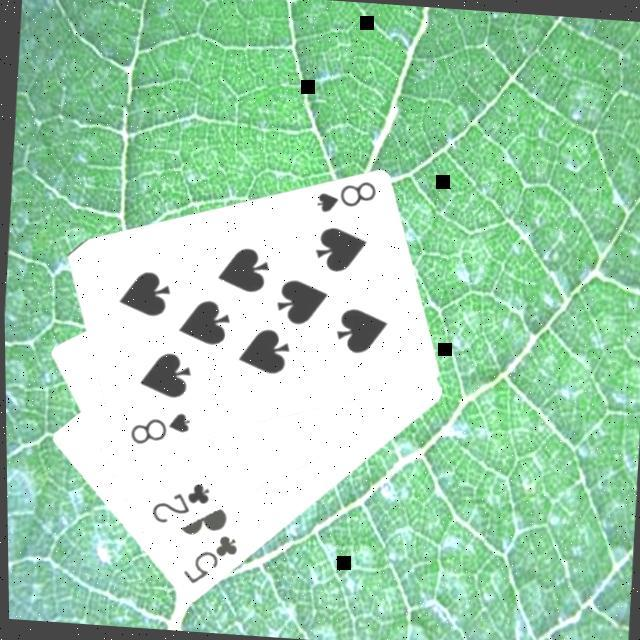2C: (144, 475, 212, 529)
5C: (175, 528, 240, 590)
8S: (122, 404, 192, 451), (309, 172, 379, 219)
